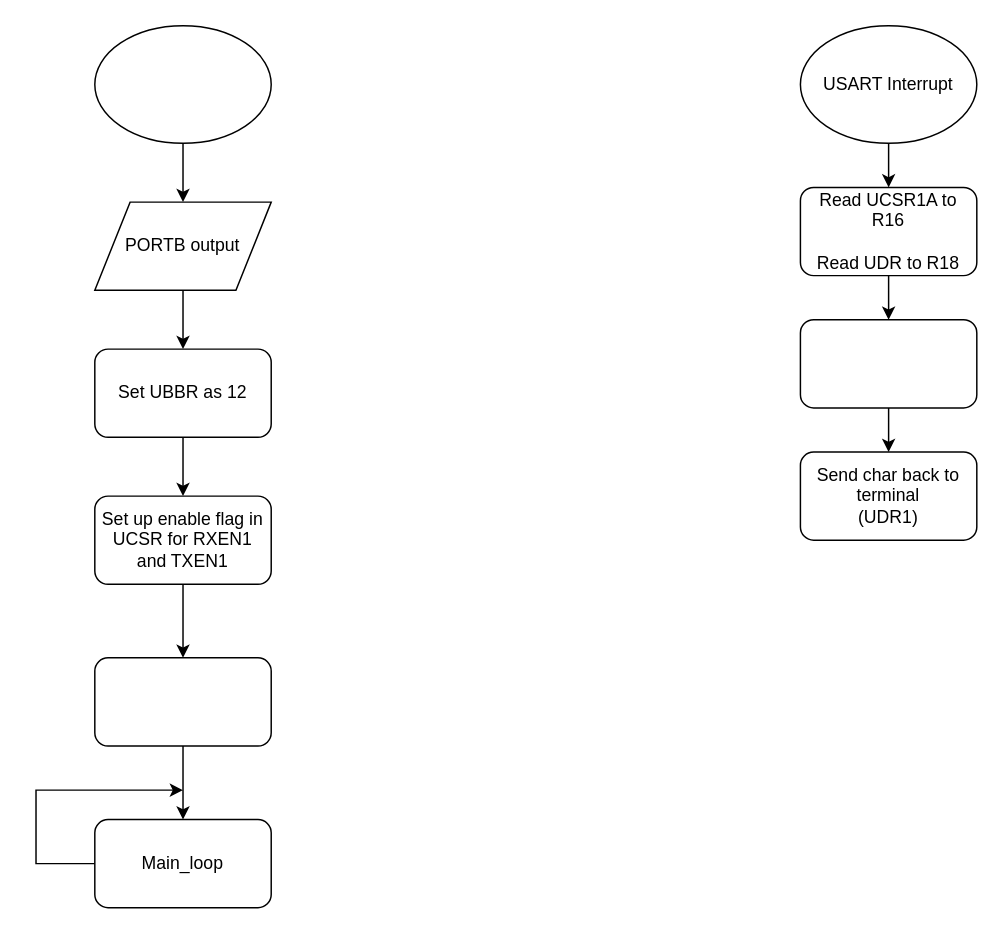
Some shapes in this 1003 by 933 pixel diagram are drawn without their labels. The centre of each missing label's shape, as x and y in pixels:
"Enable global interrupt" goes at pixel 182 701.
"Light LED on (com->output->com)" goes at pixel 888 363.
"Start" goes at pixel 182 83.
